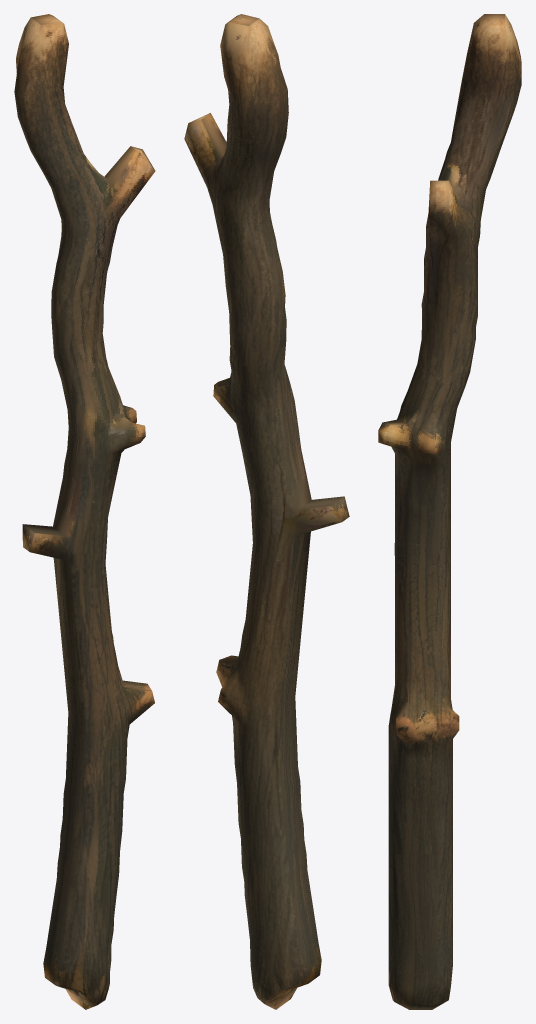
The model's file is branch_wooden_stick_lp_textured.glb.
3 renders of one model, left to right at view 1: azimuth 30°, elevation 25°; view 2: azimuth 150°, elevation 25°; view 3: azimuth 270°, elevation 25°, orthographic. The views are drawn at different scales.
Visible parts, largest first — view 1: texture_pbr_v128; view 2: texture_pbr_v128; view 3: texture_pbr_v128.
Part boxes in pixels (x1,y1,x2,y2): texture_pbr_v128: [14, 14, 155, 1009]; texture_pbr_v128: [184, 14, 349, 1009]; texture_pbr_v128: [378, 14, 521, 1009].
Bounding box in the file's own units: 0.1765 × 1.18 × 0.1558.
Materials: 1 (1 with a texture image).
